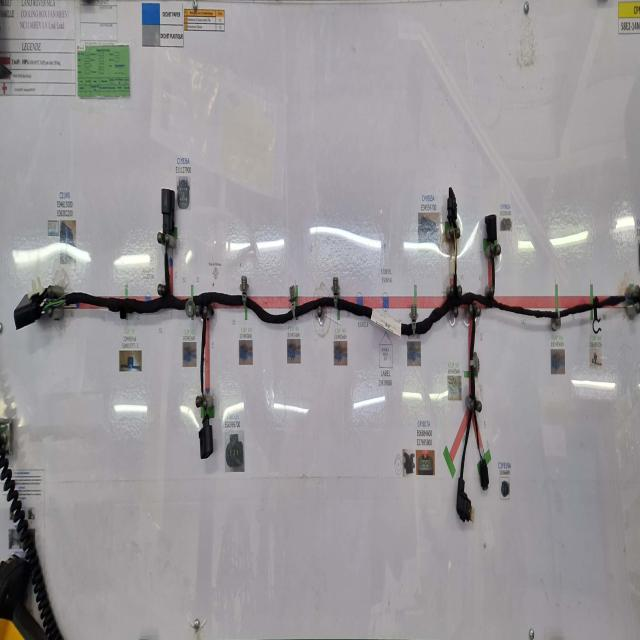Clip: (551, 299, 561, 333), (288, 284, 297, 318), (183, 296, 194, 323), (592, 298, 600, 335), (240, 277, 249, 308), (331, 276, 339, 306), (411, 300, 417, 332), (120, 299, 126, 320), (331, 311, 334, 321)
Connector: (15, 291, 43, 328), (456, 474, 473, 521), (198, 414, 213, 458), (161, 187, 174, 231), (447, 185, 457, 229), (478, 453, 488, 487), (486, 214, 497, 241), (630, 286, 640, 314)
Gape: (42, 288, 65, 308), (615, 289, 629, 309), (452, 236, 457, 283), (200, 391, 208, 415), (162, 238, 170, 258), (479, 448, 485, 467)
Info: (371, 310, 401, 337)
MHEV_N11_Cable: (69, 251, 621, 476)
